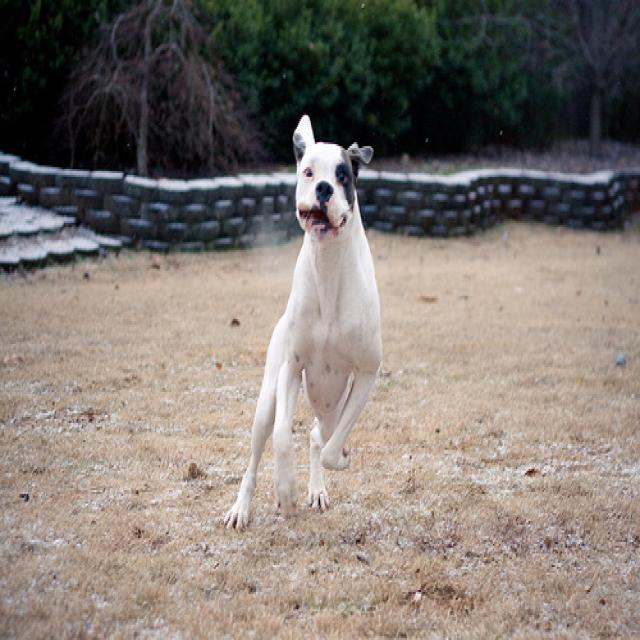dog-boxer: (218, 108, 390, 540)
